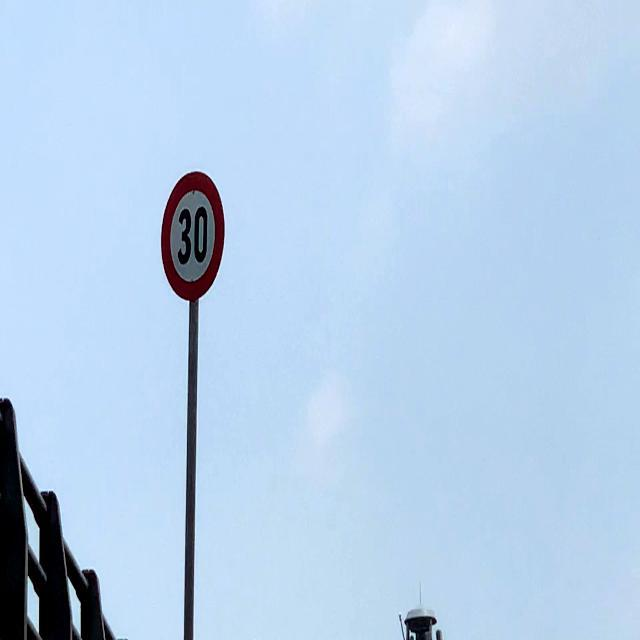P-127: (162, 172, 225, 302)
